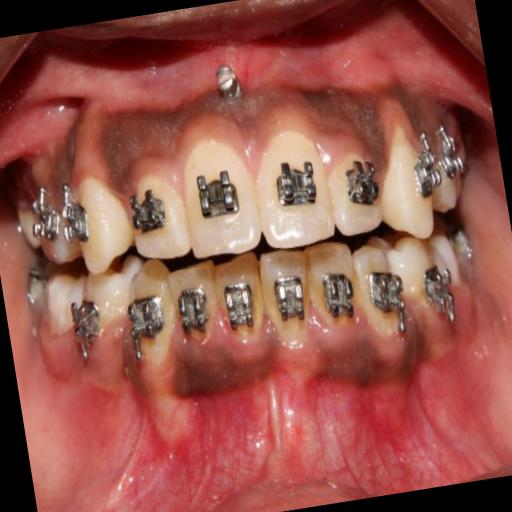correct_brace: (267, 145, 321, 217), (190, 164, 244, 232), (129, 294, 169, 350), (343, 153, 380, 213), (128, 183, 169, 236), (174, 282, 213, 336), (273, 272, 309, 328), (321, 266, 356, 322), (223, 277, 259, 331)
incorrect_brace: (122, 166, 190, 260), (326, 138, 386, 234), (305, 240, 364, 336), (168, 258, 226, 354)
